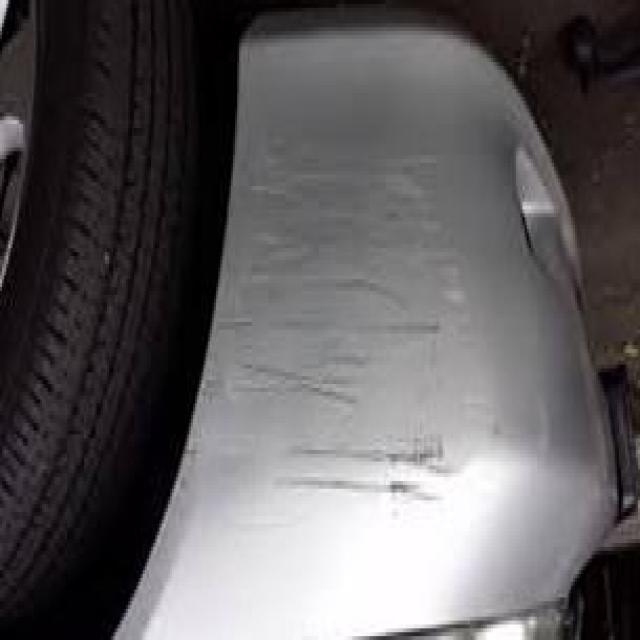scratch: (228, 138, 514, 530)
